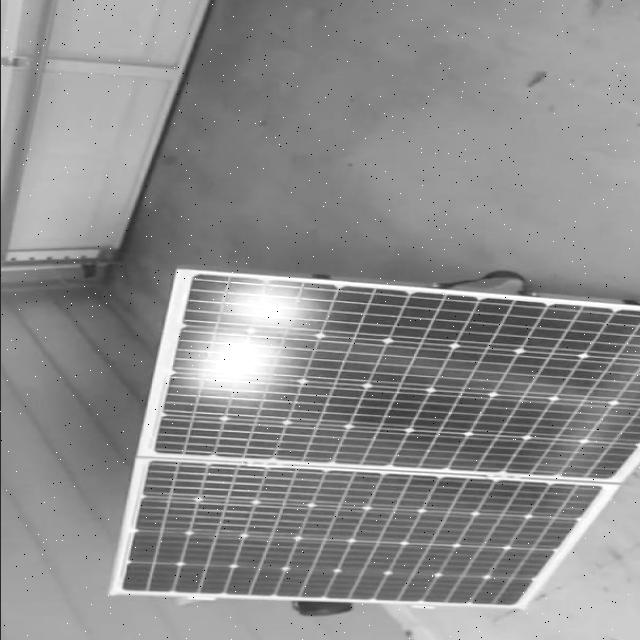Normal Solar Panel: (109, 270, 640, 610)
